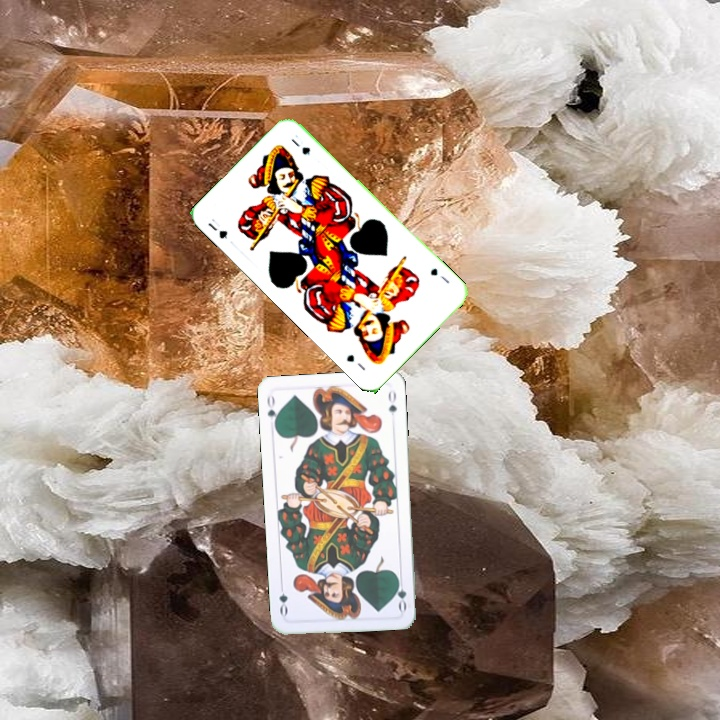GO: (263, 391, 281, 431), (393, 573, 409, 613)
GU: (204, 214, 230, 241), (426, 264, 452, 286)
